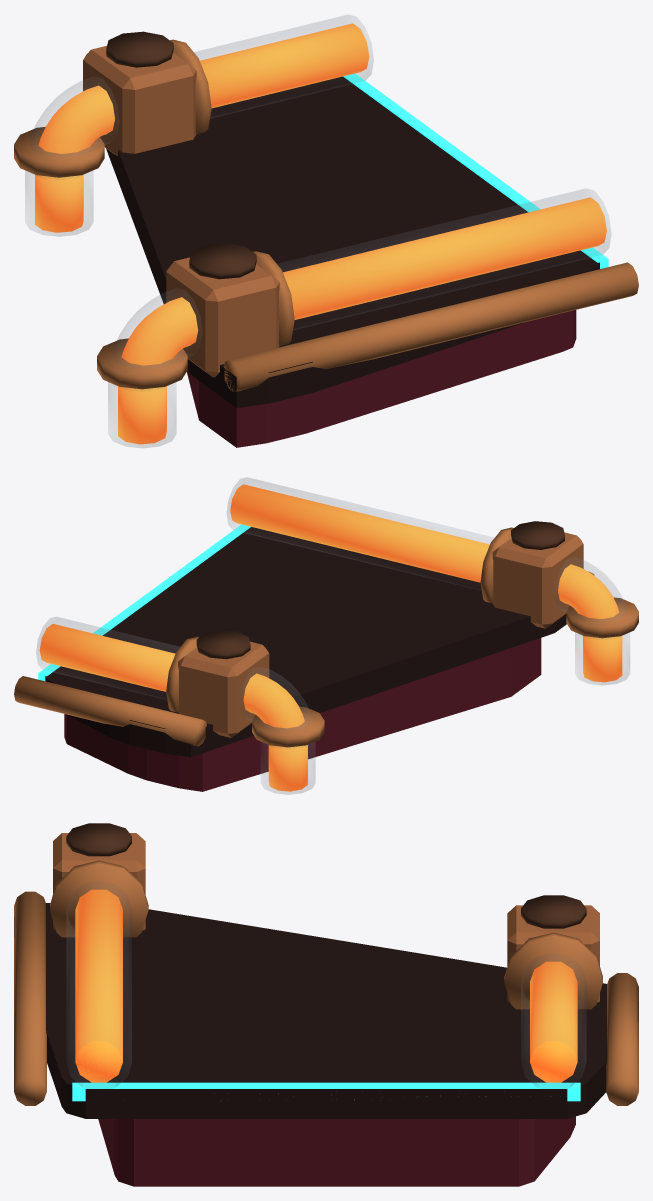
The model's file is Pier_Angled_20.glb.
3 renders of one model, top to bottom at view 1: azimuth 30°, elevation 25°; view 2: azimuth 150°, elevation 25°; view 3: azimuth 270°, elevation 25°, orthographic. The views are drawn at different scales.
Visible parts, largest first — view 1: CP_Pier_Angled_20; view 2: CP_Pier_Angled_20; view 3: CP_Pier_Angled_20.
Part boxes in pixels (left/top/right/bottom): CP_Pier_Angled_20: left=14, top=15, right=638, bottom=447; CP_Pier_Angled_20: left=14, top=477, right=638, bottom=794; CP_Pier_Angled_20: left=14, top=823, right=638, bottom=1186.
Bounding box in the file's own units: 3.63 × 1.31 × 4.18.
